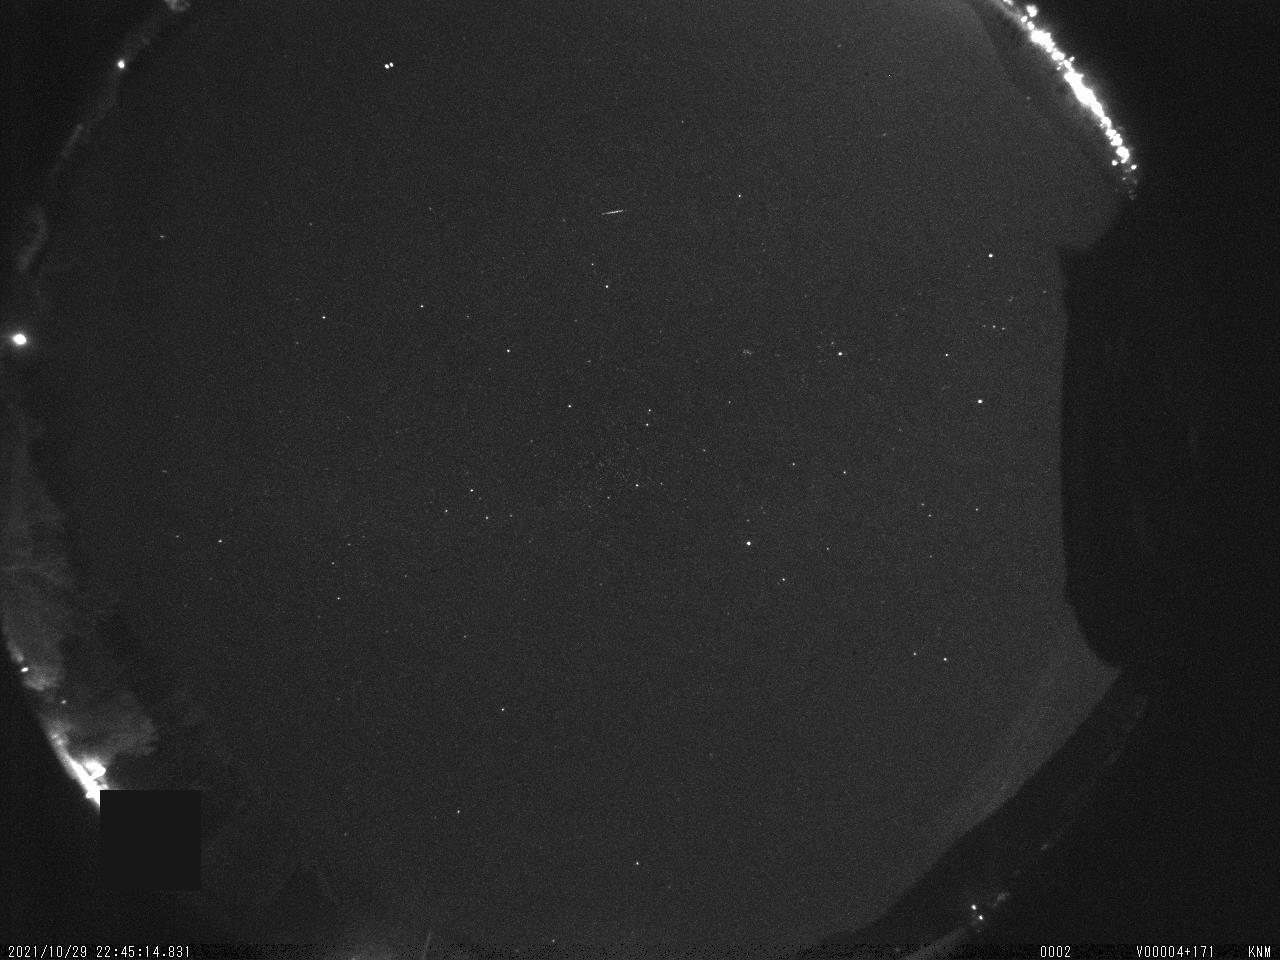meteor: (598, 201, 633, 229)
